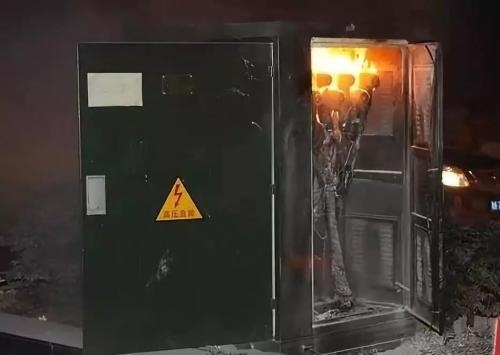fire: (311, 43, 376, 93), (441, 163, 471, 186)
